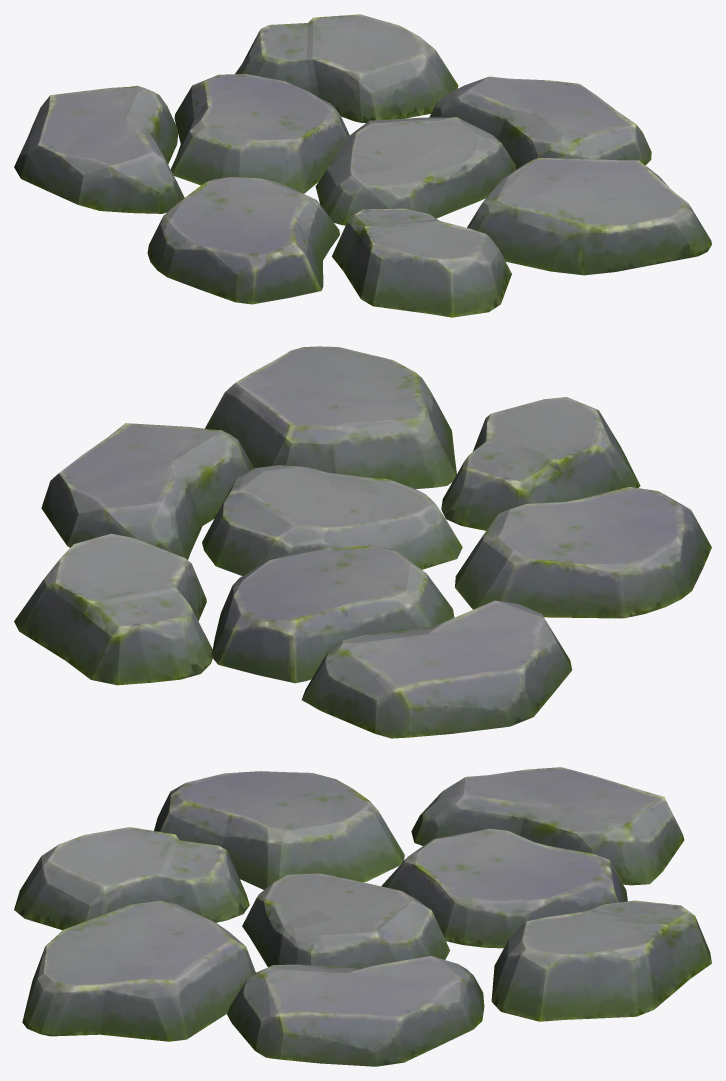
The model's file is rock-path-round-small-transformed.glb.
3 views of the same model, one above another, from view 1: azimuth 30°, elevation 25°; view 2: azimuth 150°, elevation 25°; view 3: azimuth 270°, elevation 25° (orthographic). The views are drawn at different scales.
Visible parts, largest first — view 1: RockPath_Round_Small_3; view 2: RockPath_Round_Small_3; view 3: RockPath_Round_Small_3.
Part boxes in pixels (box(x1,y1,x2,y2)): RockPath_Round_Small_3: box(14, 14, 711, 317); RockPath_Round_Small_3: box(14, 346, 711, 738); RockPath_Round_Small_3: box(14, 767, 711, 1066).
Bounding box in the file's own units: 1.18 × 0.1093 × 1.29.
Materials: 1 (1 with a texture image).
